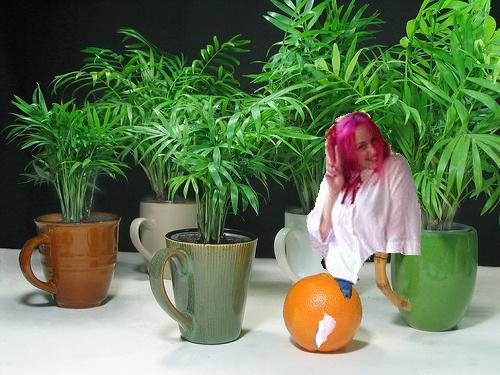tampered: (307, 111, 421, 348)
